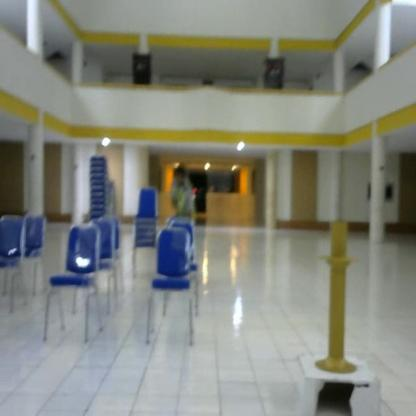pole: (314, 219, 364, 375)
